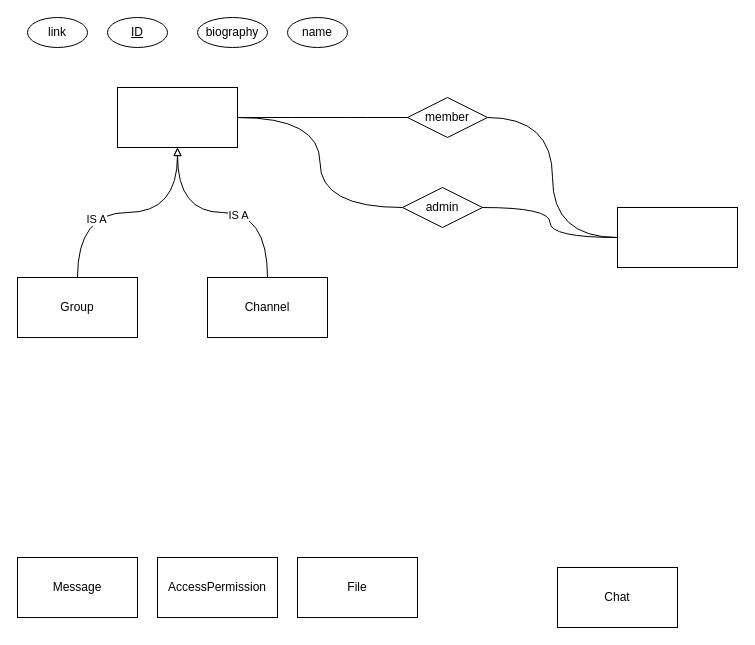
The diagram is 755 pixels wide and 645 high, and some of its shapes have lost their labels. Here are the shapes that lost their labels. From the top down, the centre of each, then its label:
At pixel 177 117: "Community".
At pixel 677 237: "User".
